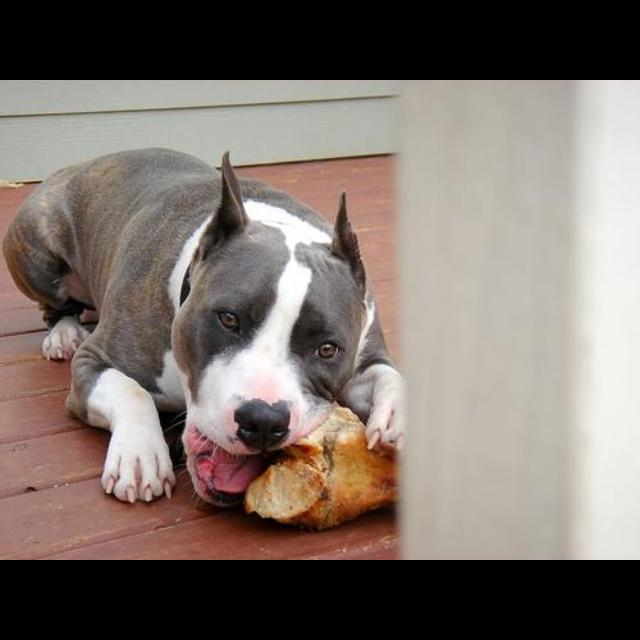amstaff: (3, 147, 407, 511)
